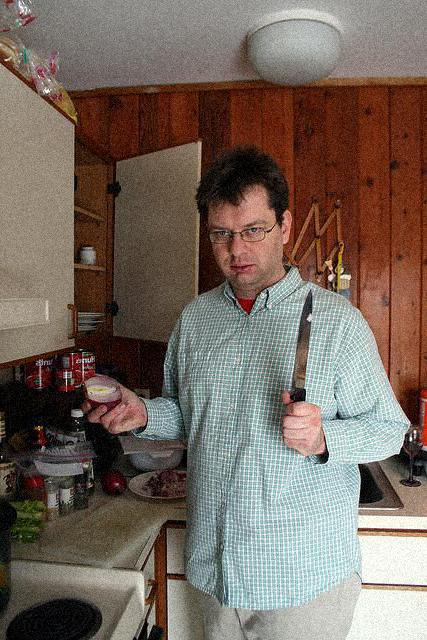Lavaplatos: (186, 395, 402, 506)
